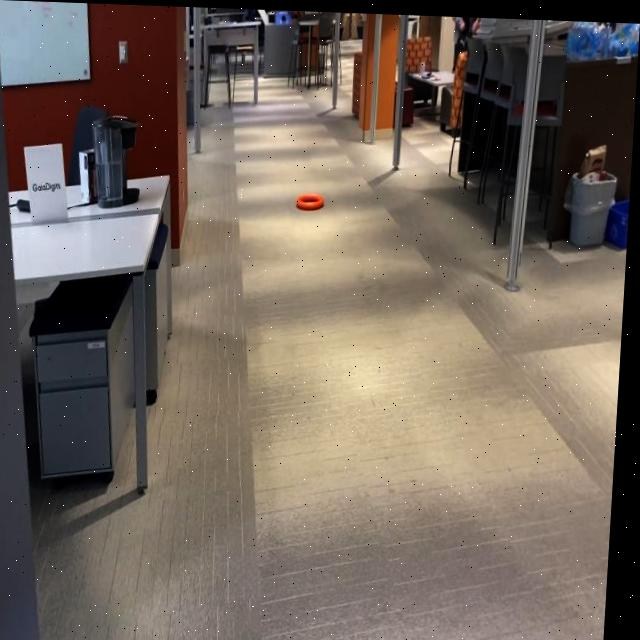note: (299, 189, 328, 208)
